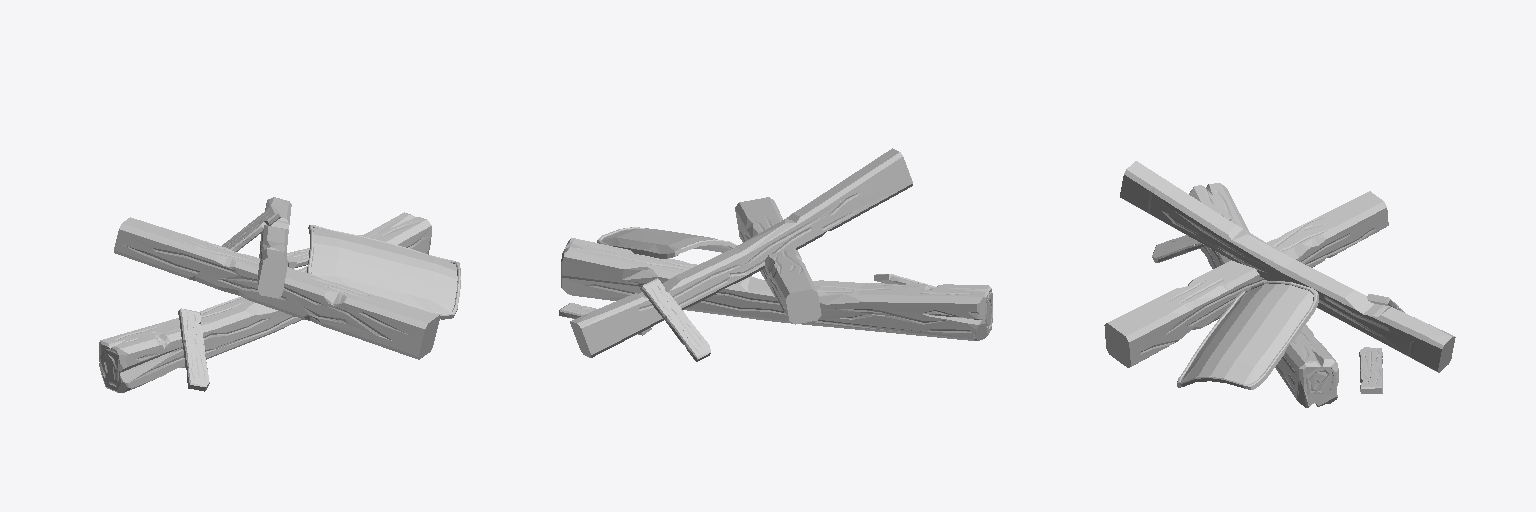
Rendered from Buildinginteractable.obj.
3 views of the same model, side by side, from view 1: azimuth 30°, elevation 25°; view 2: azimuth 150°, elevation 25°; view 3: azimuth 270°, elevation 25° (orthographic).
Parts seen in each view (by area): view 1: Buildinginteractable:polySurface536; view 2: Buildinginteractable:polySurface536; view 3: Buildinginteractable:polySurface536.
Part boxes in pixels (x1,y1,x2,y2): Buildinginteractable:polySurface536: (99, 197, 460, 392); Buildinginteractable:polySurface536: (559, 148, 992, 361); Buildinginteractable:polySurface536: (1104, 161, 1455, 407).
Bounding box in the file's own units: 388 × 131 × 317.